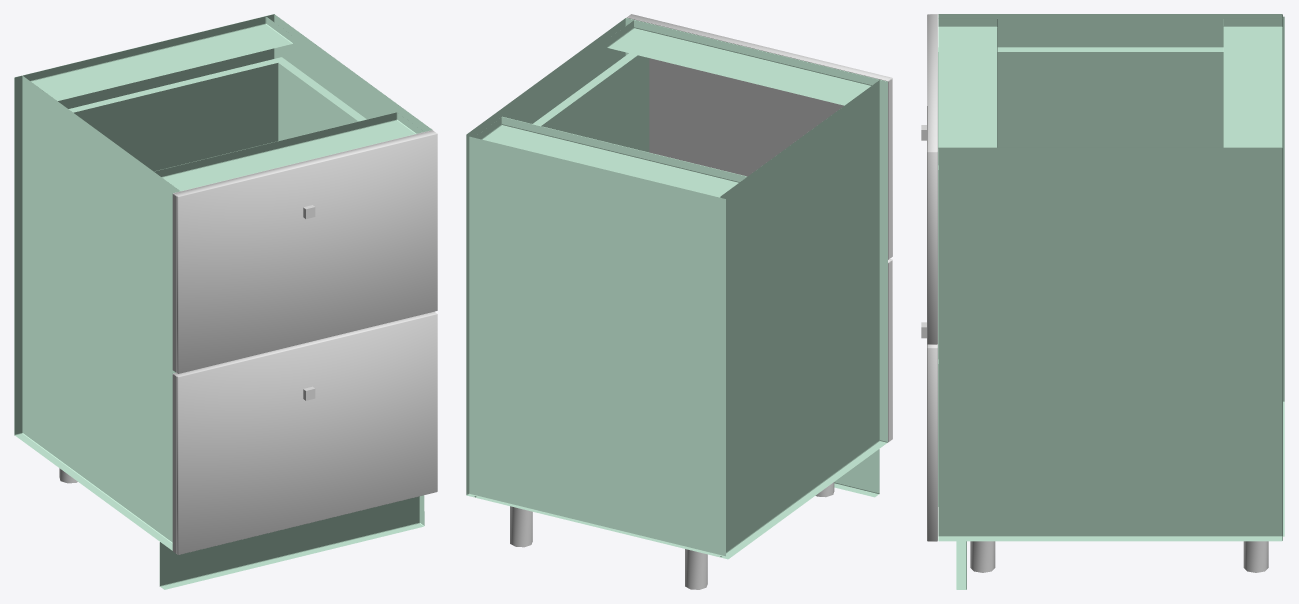
File: M_2YNSD_6.glb
3 renders of one model, left to right at view 1: azimuth 30°, elevation 25°; view 2: azimuth 150°, elevation 25°; view 3: azimuth 270°, elevation 25°, orthographic. The views are drawn at different scales.
Parts seen in each view (by area): view 1: M_2YNSD_6, M_2YNSD_1_F.008, M_2YNSD_1_F.009, M_2YNSD_6_F_6, M_2YNSD_1_F_C.009, M_2YNSD_1_F_C.008; view 2: M_2YNSD_6, M_2YNSD_1_F_A.008, M_2YNSD_6_F_6, M_2YNSD_1_F_B.008, Legs.002, M_2YNSD_1_F.008, M_2YNSD_1_F_C.009, M_2YNSD_1_F_C.008; view 3: M_2YNSD_6, M_2YNSD_6_F_6, M_2YNSD_1_F.008, M_2YNSD_1_F.009, Legs.002.
Boxes of the visible parts, x1=… form: M_2YNSD_6: x1=14, y1=14, x2=432, y2=589; M_2YNSD_1_F.008: x1=174, y1=130, x2=437, y2=373; M_2YNSD_1_F.009: x1=174, y1=311, x2=437, y2=554; M_2YNSD_6_F_6: x1=68, y1=57, x2=366, y2=171; M_2YNSD_1_F_C.009: x1=172, y1=374, x2=176, y2=553; M_2YNSD_1_F_C.008: x1=172, y1=194, x2=176, y2=372; M_2YNSD_6: x1=466, y1=18, x2=887, y2=559; M_2YNSD_1_F_A.008: x1=627, y1=17, x2=890, y2=176; M_2YNSD_6_F_6: x1=533, y1=53, x2=649, y2=152; M_2YNSD_1_F_B.008: x1=758, y1=50, x2=891, y2=259; Legs.002: x1=510, y1=482, x2=834, y2=589; M_2YNSD_1_F.008: x1=626, y1=14, x2=892, y2=256; M_2YNSD_1_F_C.009: x1=888, y1=261, x2=892, y2=441; M_2YNSD_1_F_C.008: x1=888, y1=79, x2=892, y2=259; M_2YNSD_6: x1=938, y1=14, x2=1284, y2=589; M_2YNSD_6_F_6: x1=938, y1=47, x2=1223, y2=506; M_2YNSD_1_F.008: x1=927, y1=14, x2=937, y2=344; M_2YNSD_1_F.009: x1=927, y1=344, x2=937, y2=541; Legs.002: x1=970, y1=541, x2=1268, y2=572.
Bounding box in the file's own units: 5.81 × 8.6 × 6.47.
